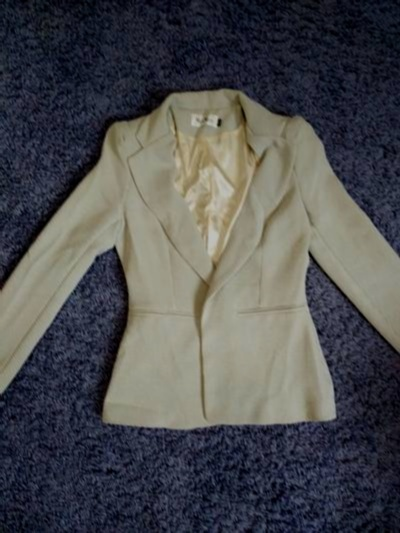Blazer: (4, 80, 395, 448)
